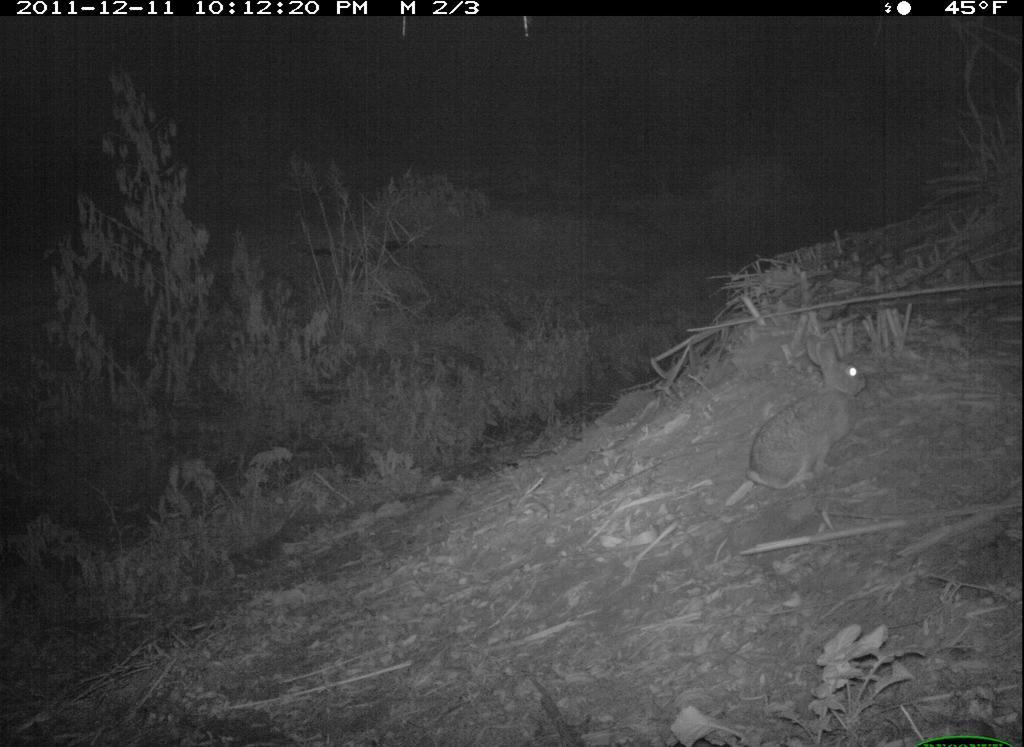rabbit: (735, 326, 879, 496)
